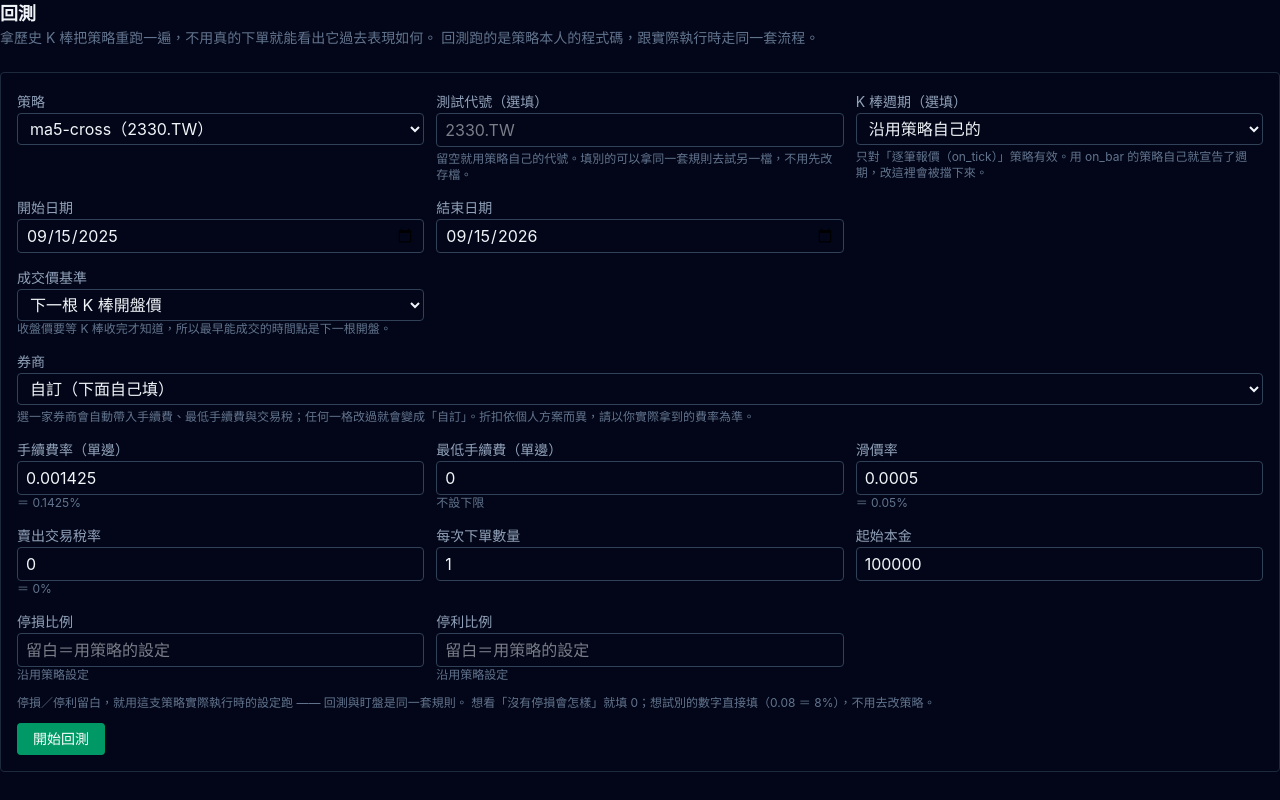
Test: BacktestPage › does not let a run that tested nothing read as a flat 0% result
Click the button "開始回測" at (61, 739), box [17,723,105,755]
(page scrolled)
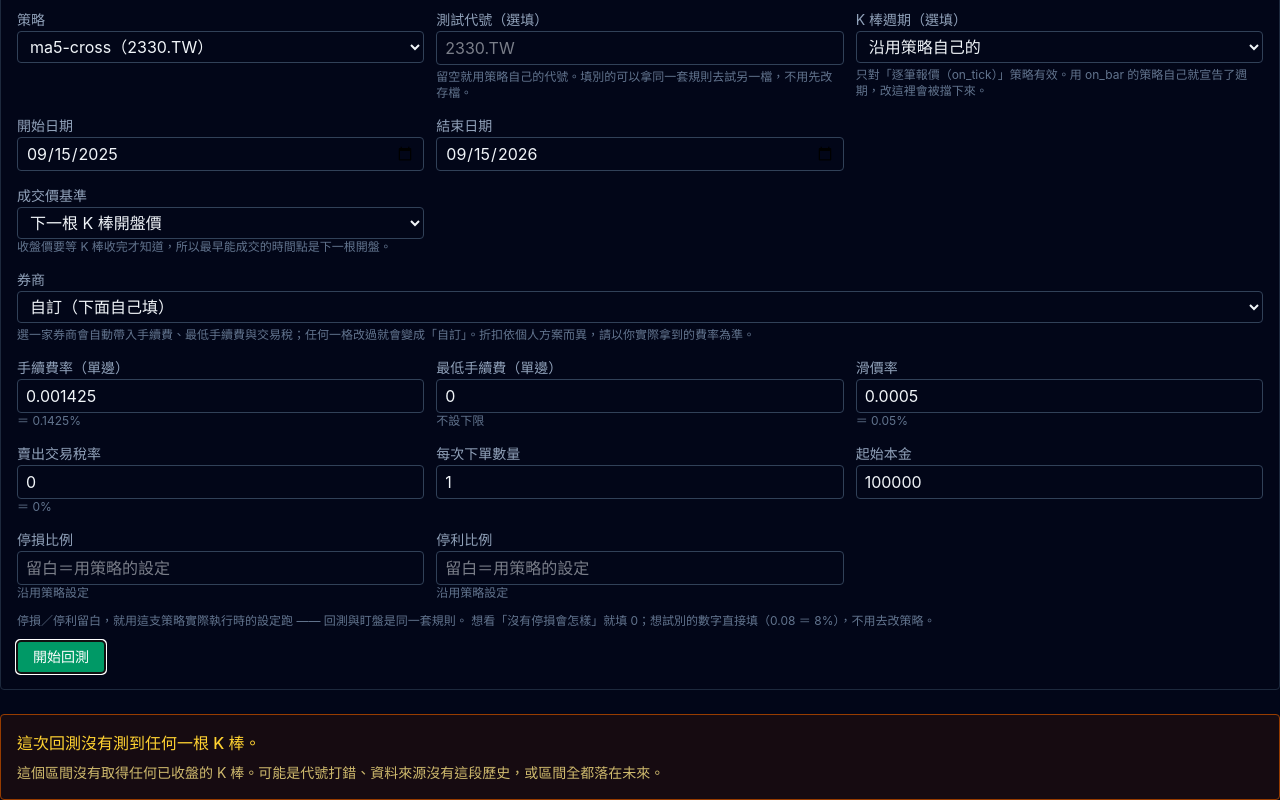
Check: the text "這次回測沒有測到任何一根 K 棒。" is shown, box [17,733,260,753]
Check: the text "這個區間沒有取得任何已收盤的 K 棒。可能是代號打錯、資料來源沒有這段歷史，或區間全都落在未來。" is shown, box [17,764,664,781]
